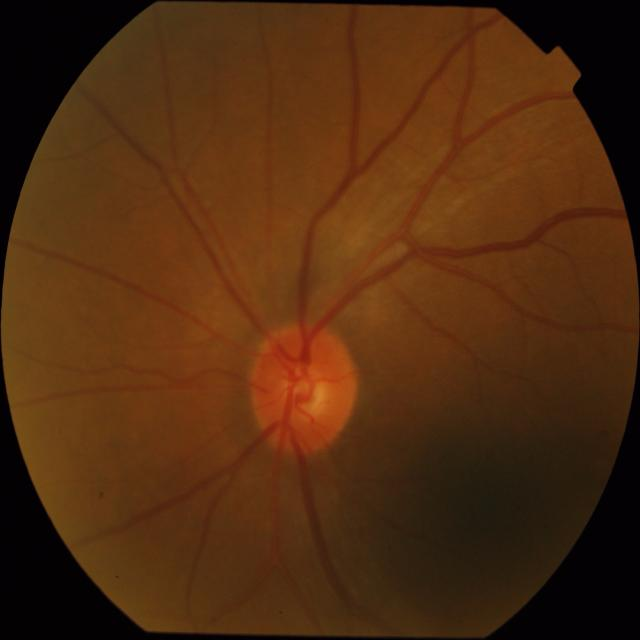OC: (281, 365, 328, 421)
OD: (249, 324, 358, 455)
